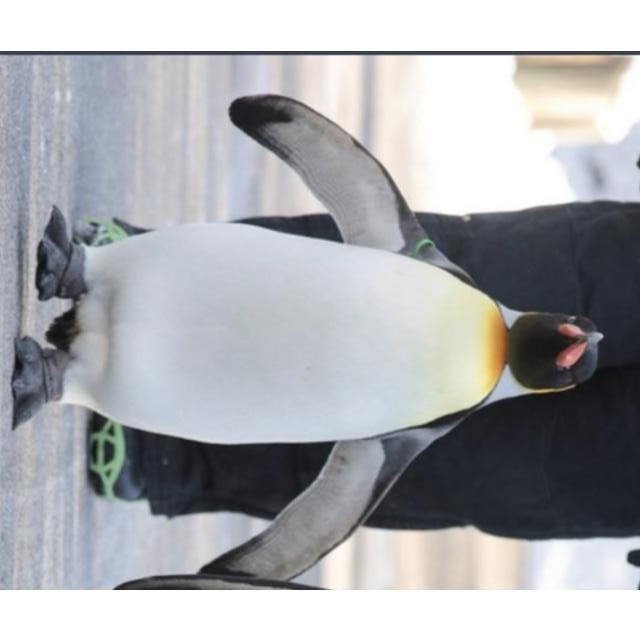penguin: (7, 90, 602, 589)
